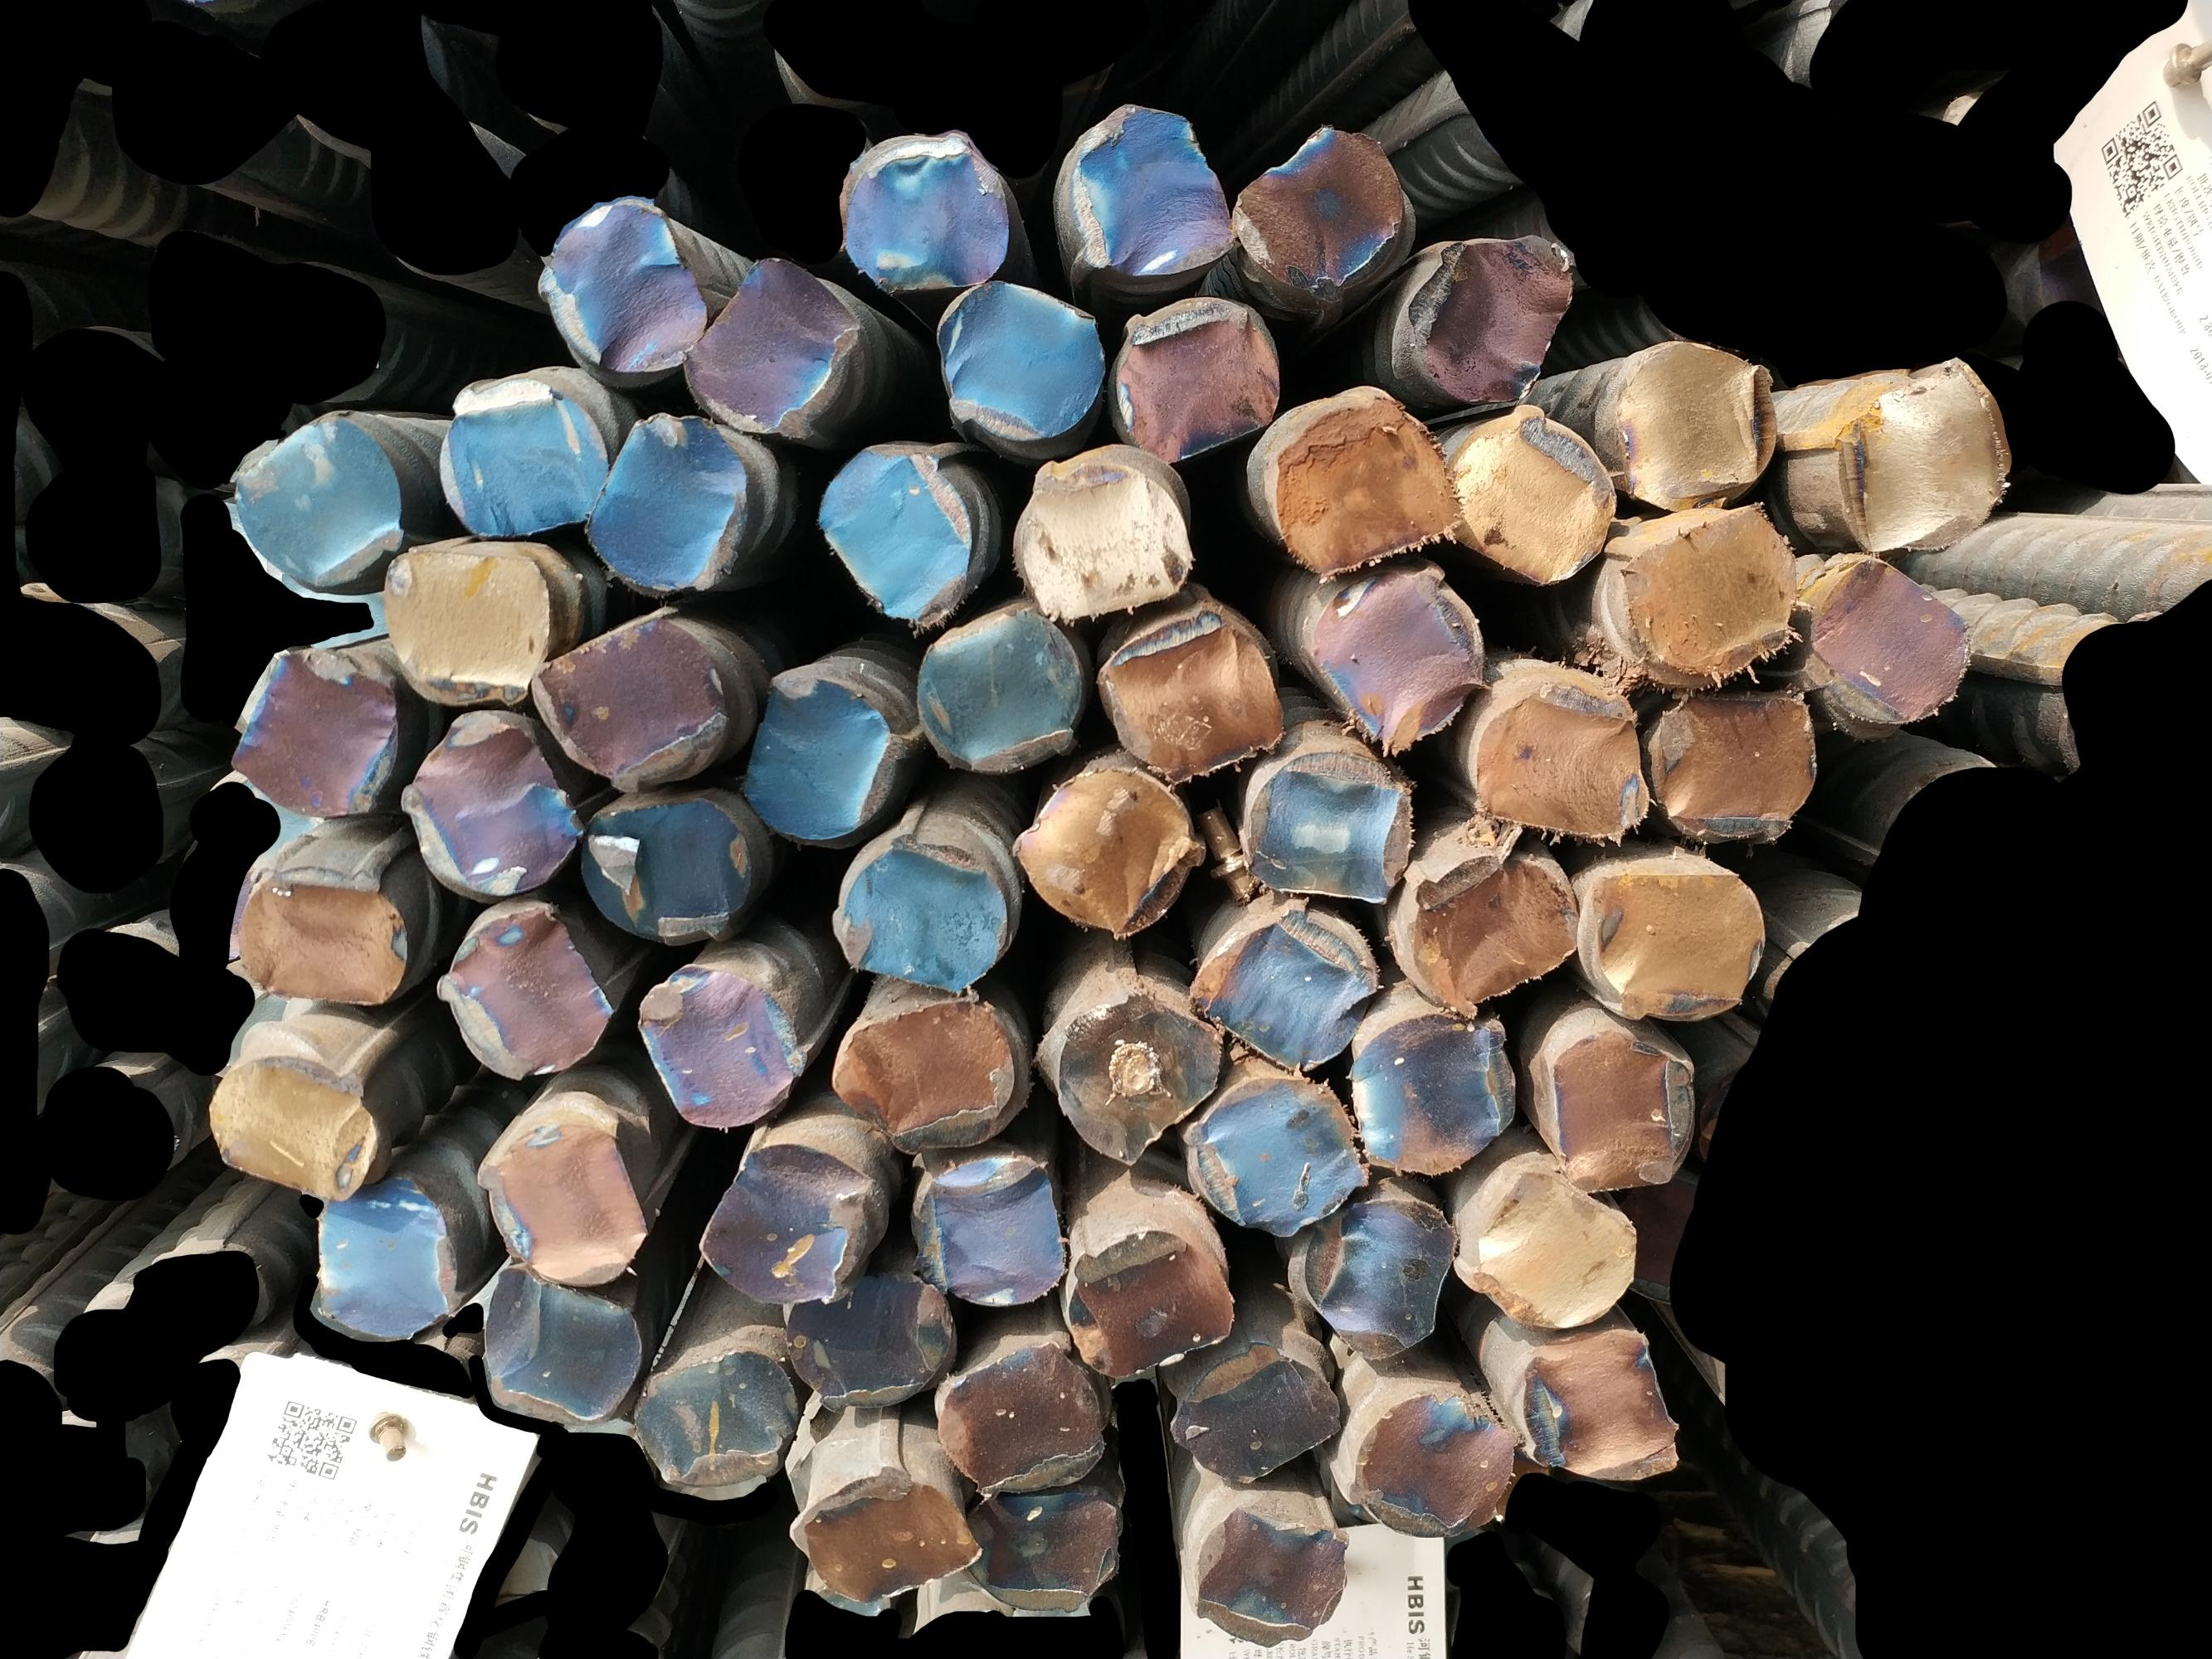bar: (1827, 354, 2022, 558), (523, 610, 736, 795), (1262, 392, 1469, 580), (1614, 491, 1808, 688), (1300, 554, 1489, 756), (396, 704, 587, 901), (1006, 758, 1210, 943), (1093, 605, 1293, 788), (1440, 397, 1623, 594), (431, 899, 619, 1084), (1049, 985, 1232, 1175), (823, 992, 1032, 1155), (225, 410, 410, 594), (1462, 674, 1659, 845), (1224, 118, 1412, 296), (1009, 457, 1203, 629), (1178, 1068, 1372, 1241), (532, 195, 713, 378), (1400, 230, 1581, 411), (1185, 904, 1381, 1072), (931, 270, 1114, 446), (1285, 1188, 1468, 1364), (1804, 549, 1978, 734), (1337, 1006, 1523, 1178), (223, 645, 403, 823), (1103, 293, 1286, 467), (469, 1119, 654, 1291), (1400, 845, 1588, 1014), (1607, 338, 1785, 516), (908, 599, 1089, 774), (580, 408, 748, 596), (1062, 103, 1239, 279), (1466, 1159, 1644, 1335), (692, 1140, 875, 1310), (1640, 683, 1827, 850), (811, 441, 976, 629), (431, 375, 617, 540), (678, 253, 844, 439), (629, 960, 807, 1133), (830, 831, 1016, 995), (1238, 742, 1417, 911), (1506, 1323, 1686, 1490), (784, 1462, 988, 1608), (1581, 866, 1769, 1025), (734, 669, 899, 849), (927, 1335, 1109, 1499), (1060, 1220, 1245, 1380), (626, 1344, 807, 1506), (202, 1047, 383, 1206), (1342, 1384, 1522, 1542), (377, 542, 553, 702), (838, 136, 1014, 296), (575, 793, 757, 948), (1164, 1335, 1347, 1488), (478, 1260, 648, 1424), (1544, 1023, 1705, 1197), (903, 1150, 1072, 1314), (777, 1265, 962, 1406), (310, 1169, 460, 1342), (230, 868, 411, 1009), (950, 1486, 1131, 1619), (1192, 1506, 1356, 1652)
